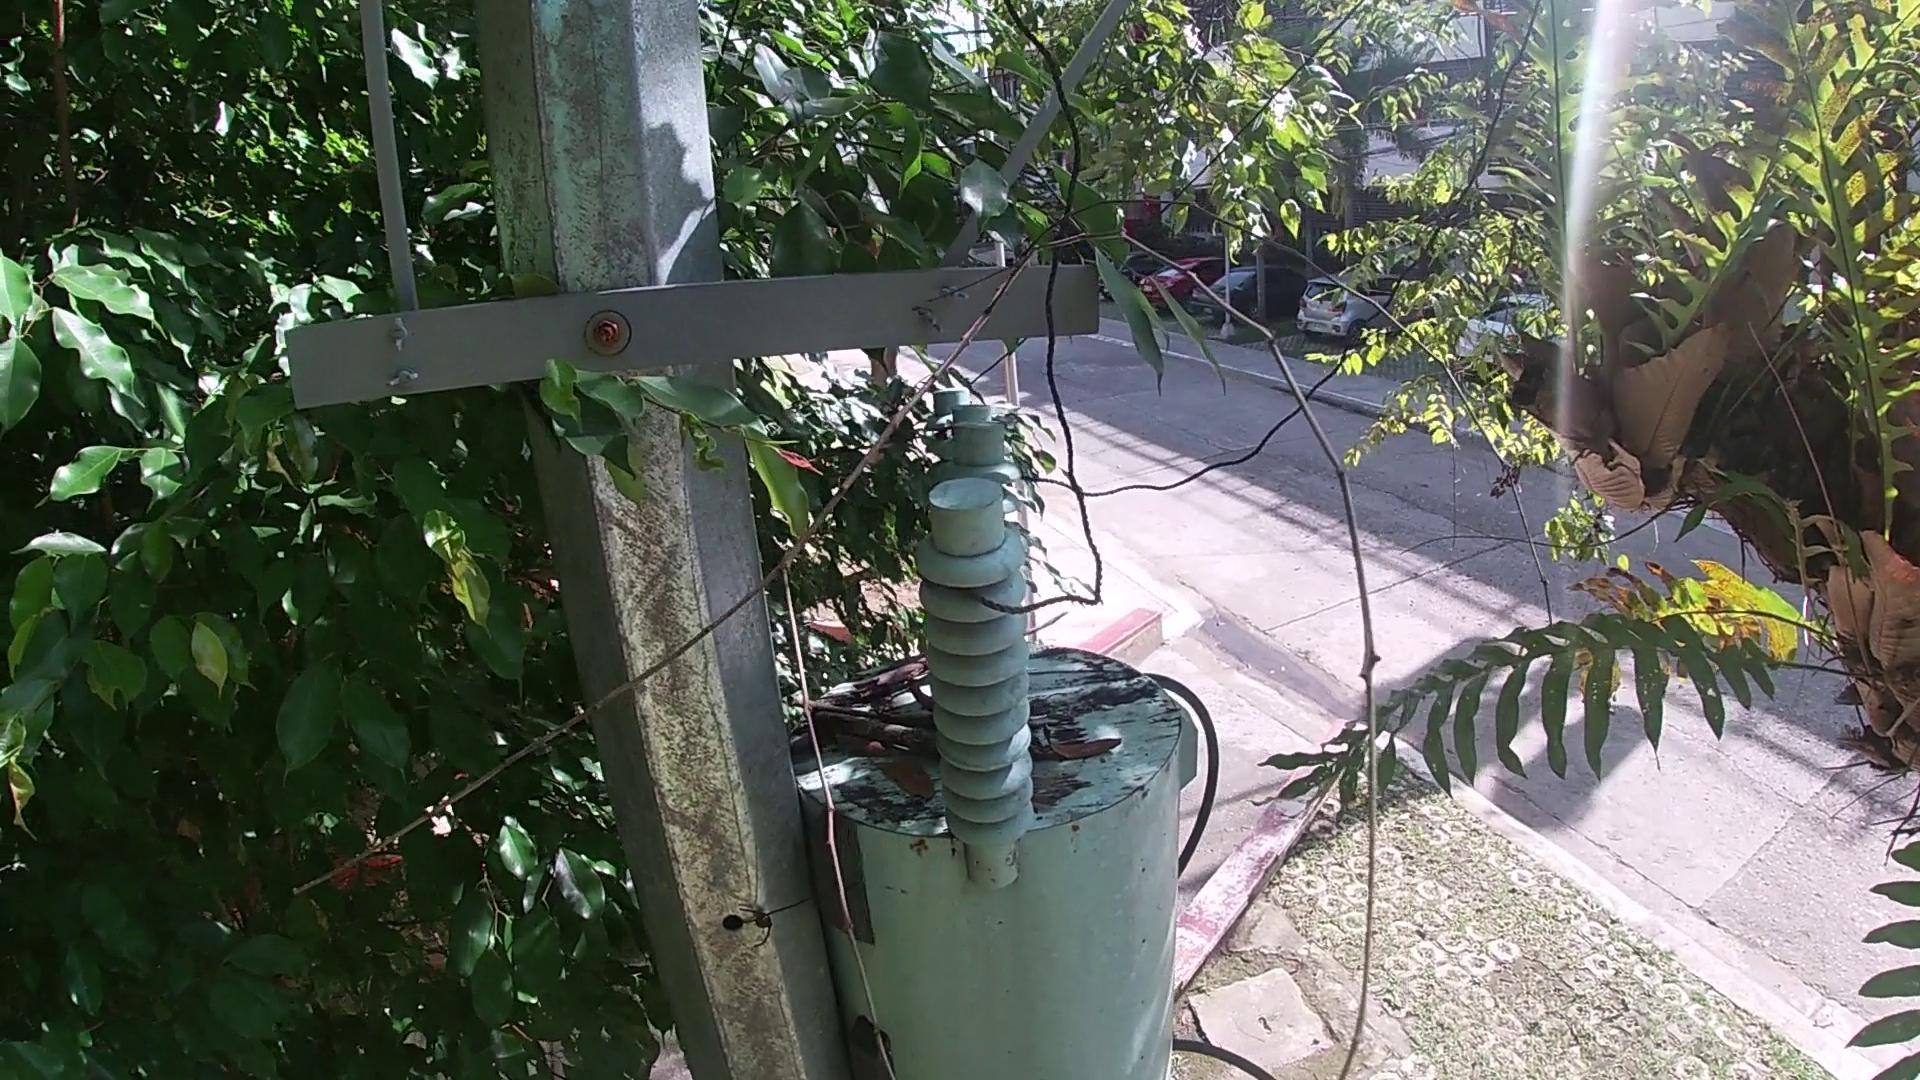leaf: (1040, 724, 1125, 765), (869, 756, 938, 804), (832, 731, 891, 762)
tree branch: (281, 204, 1548, 1077), (789, 698, 940, 758), (816, 651, 932, 709)
